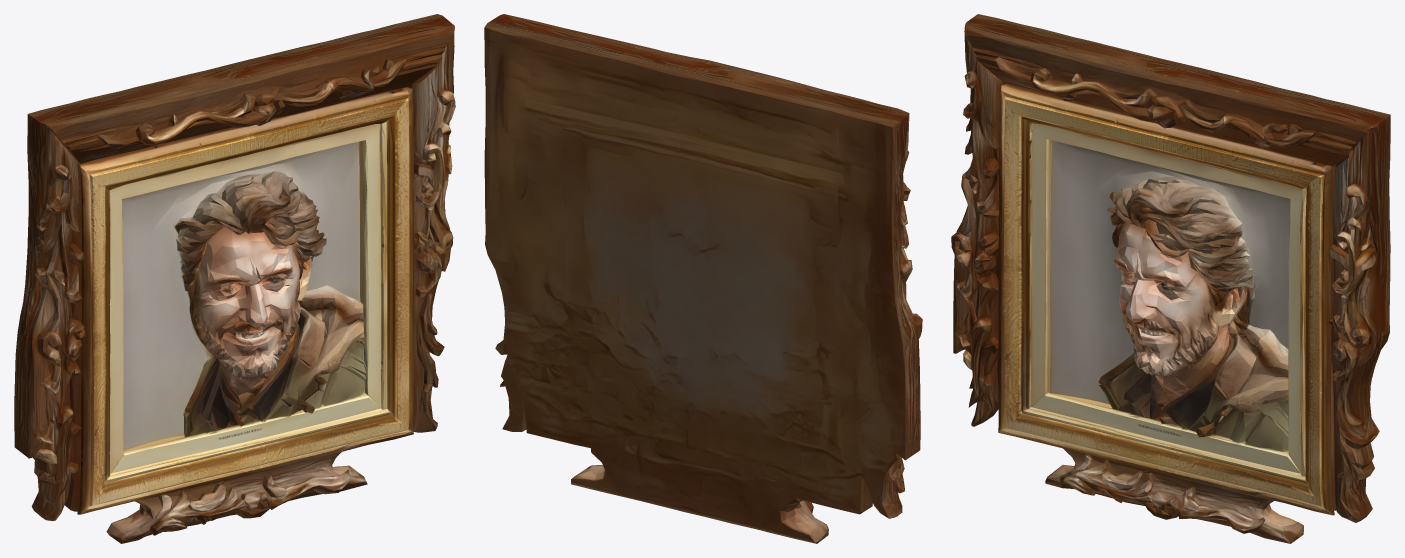
Rendered from 餐厅相框.glb.
3 renders of one model, left to right at view 1: azimuth 30°, elevation 25°; view 2: azimuth 150°, elevation 25°; view 3: azimuth 330°, elevation 25°, orthographic.
Parts seen in each view (by area): view 1: model; view 2: model; view 3: model.
Part boxes in pixels (x1,y1,x2,y2): model: (14, 14, 455, 543); model: (484, 14, 922, 543); model: (951, 14, 1390, 543).
Bounding box in the file's own units: 1.9 × 1.88 × 0.3311.
Materials: 1 (1 with a texture image).
